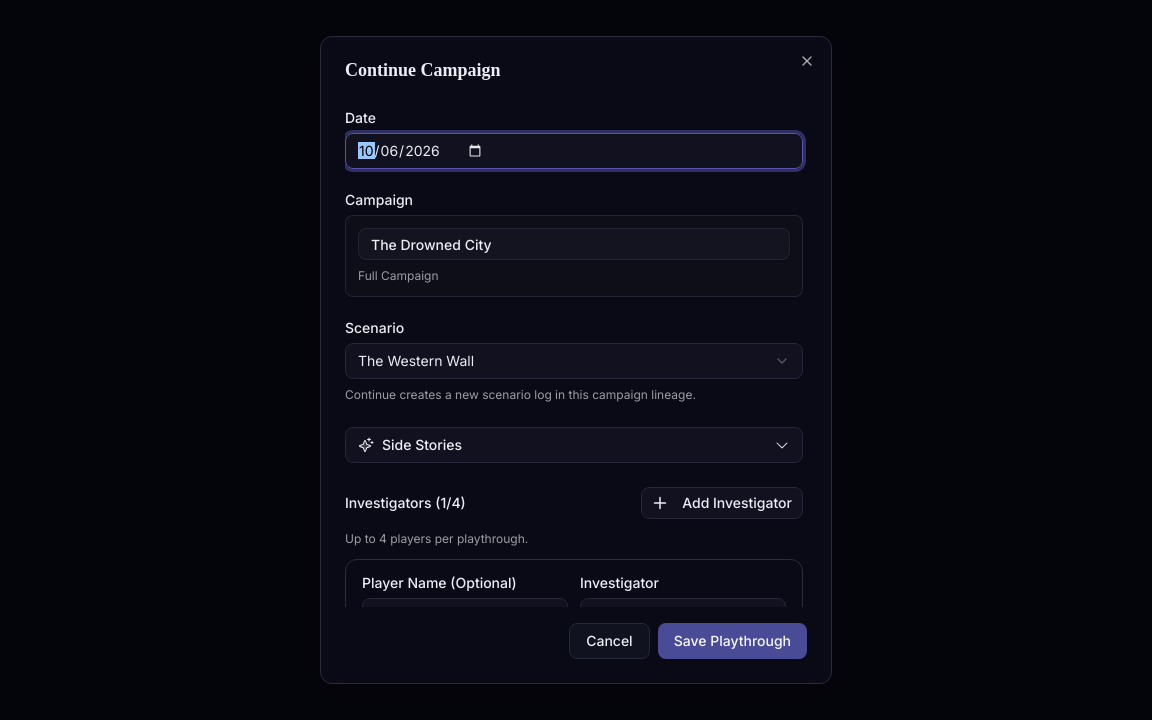
Test: PlaythroughForm continue-campaign seeding › offers the Drowned City east/west route choice after One Last Job
The image size is (1152, 720).
Click the dropdown named "Scenario" at point(416, 360), box [345,343,803,379]
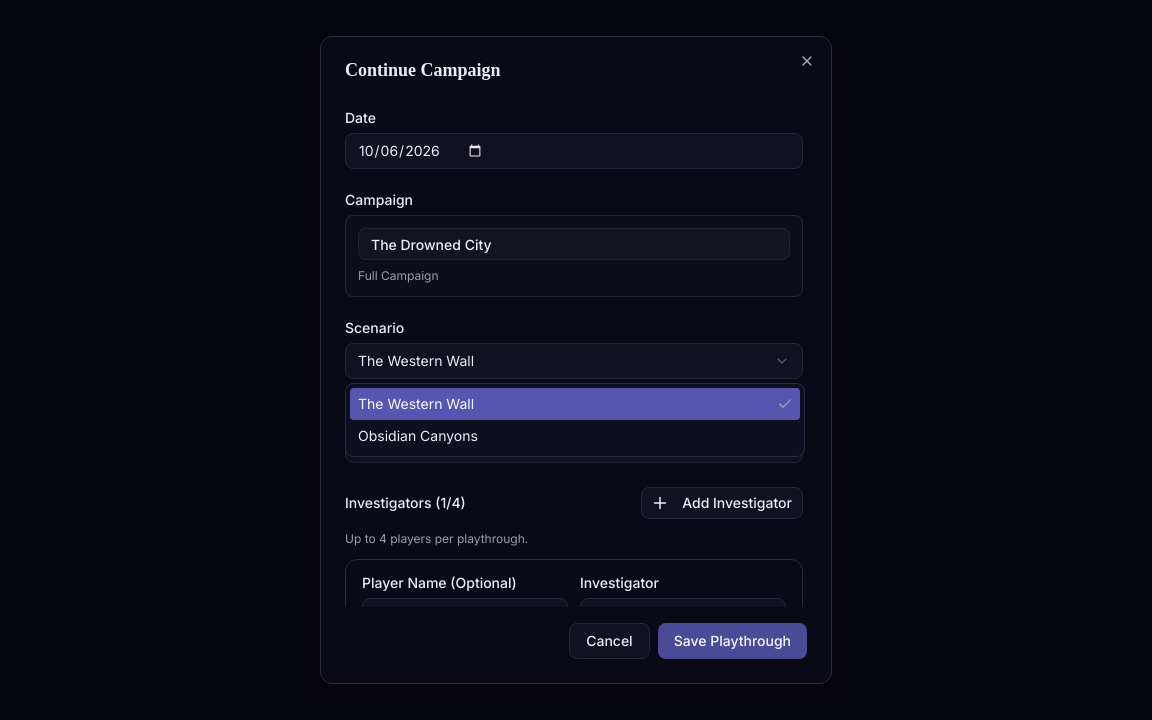
Expected: the options read "The Western Wall", "Obsidian Canyons", in this order, [350,388,800,420]; [358,427,478,444]
